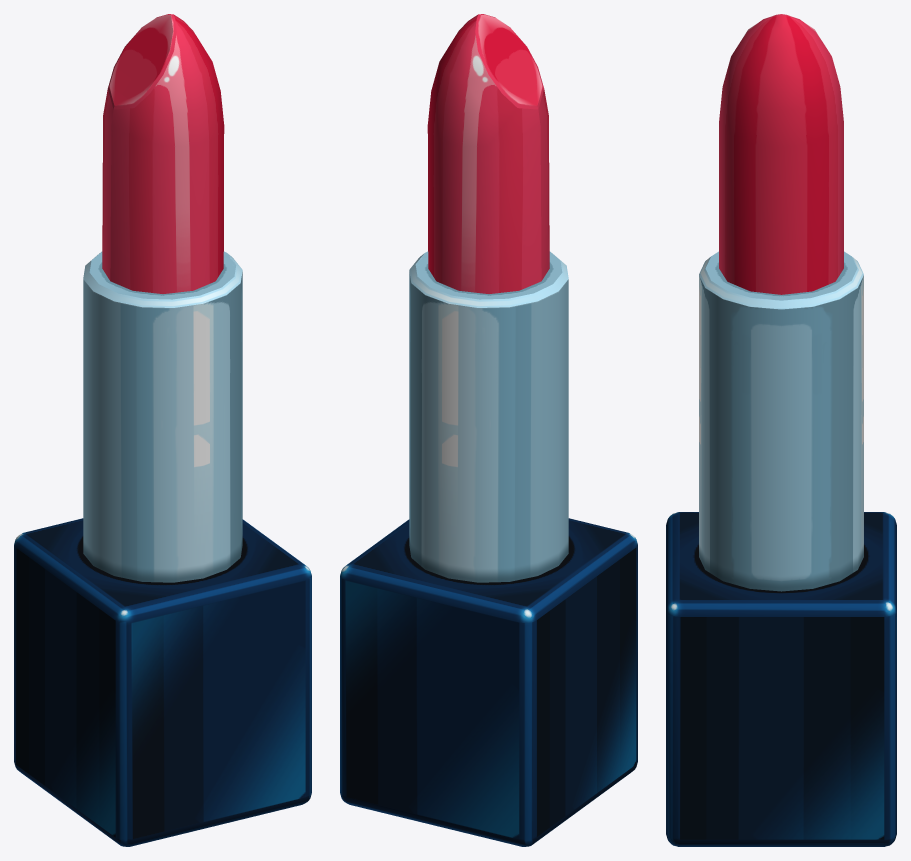
Rendered from LSK_001.fbx.
3 views of the same model, side by side, from view 1: azimuth 30°, elevation 25°; view 2: azimuth 150°, elevation 25°; view 3: azimuth 270°, elevation 25° (orthographic). The views are drawn at different scales.
Visible parts, largest first — view 1: LSK_001; view 2: LSK_001; view 3: LSK_001.
Part boxes in pixels (x1=…): LSK_001: x1=14, y1=14, x2=311, y2=846; LSK_001: x1=340, y1=14, x2=637, y2=846; LSK_001: x1=666, y1=14, x2=896, y2=846.
Bounding box in the file's own units: 63.17 × 239 × 63.17.
1 material, 1 textured.
